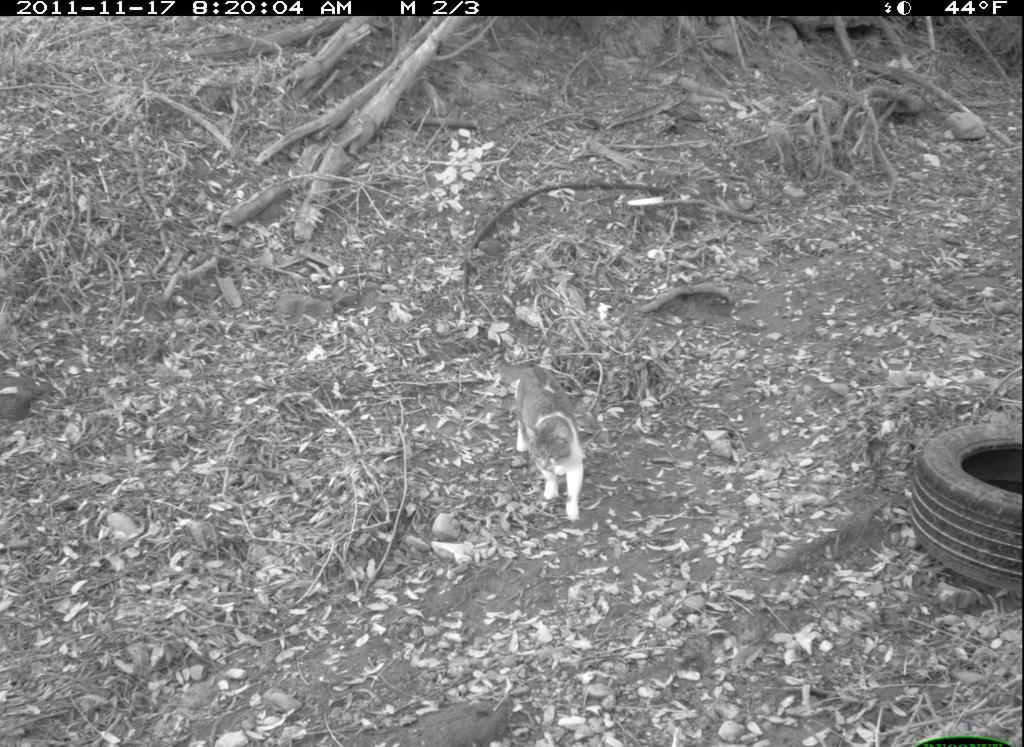cat: (482, 336, 588, 528)
